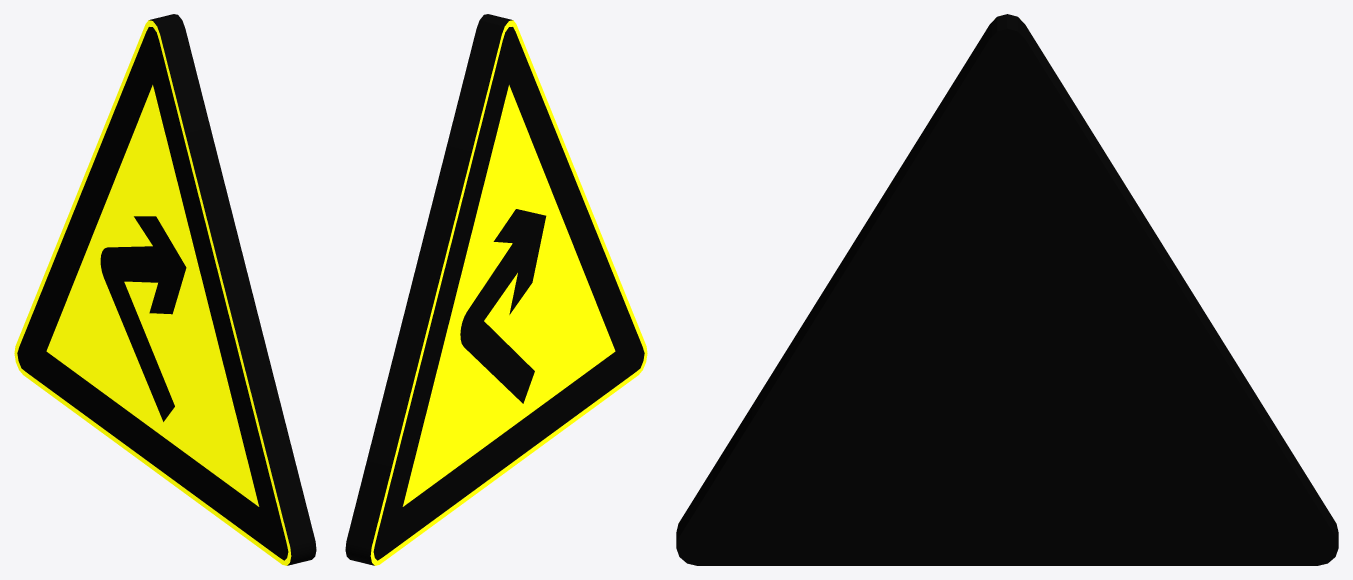
Rendered from Turn_Right_Quickly.glb.
3 views of the same model, side by side, from view 1: azimuth 30°, elevation 25°; view 2: azimuth 150°, elevation 25°; view 3: azimuth 270°, elevation 25° (orthographic). The views are drawn at different scales.
Parts seen in each view (by area): view 1: Turn_Right_Quickly; view 2: Turn_Right_Quickly; view 3: Turn_Right_Quickly.
Boxes of the visible parts, left/top/right/bottom form: Turn_Right_Quickly: left=14, top=14, right=316, bottom=565; Turn_Right_Quickly: left=345, top=14, right=647, bottom=565; Turn_Right_Quickly: left=676, top=14, right=1338, bottom=565.
Bounding box in the file's own units: 0.0643 × 1.02 × 1.14.
